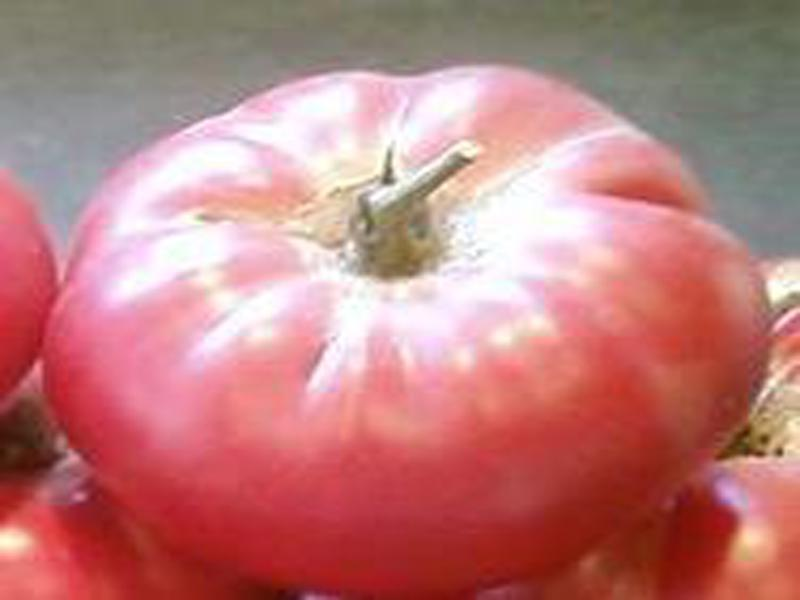Tomato: (43, 67, 774, 596)
